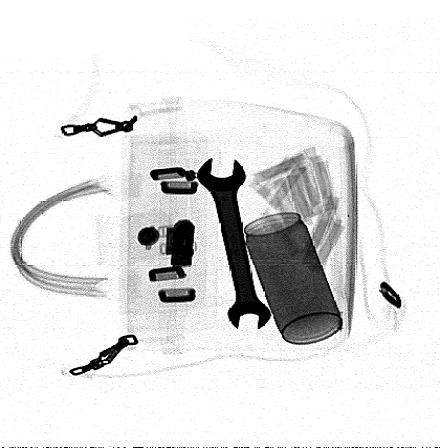Wrench: (198, 157, 272, 332)
